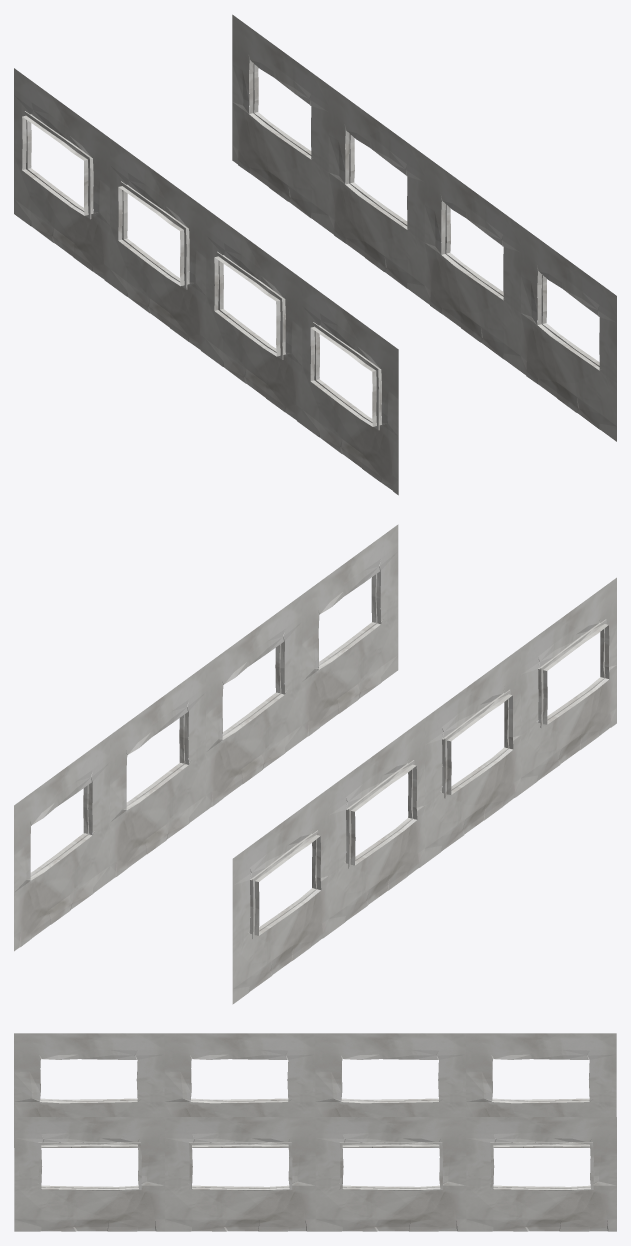
The model's file is MurosSegundoVagon.FBX.
3 views of the same model, one above another, from view 1: azimuth 30°, elevation 25°; view 2: azimuth 150°, elevation 25°; view 3: azimuth 270°, elevation 25° (orthographic). The views are drawn at different scales.
Visible parts, largest first — view 1: Ventana002; view 2: Ventana002; view 3: Ventana002.
Part boxes in pixels (<box>): Ventana002: <box>14,14,616,495</box>; Ventana002: <box>14,524,616,1004</box>; Ventana002: <box>14,1033,616,1231</box>.
Size of the model in its own units: 573 by 337 by 1611.
